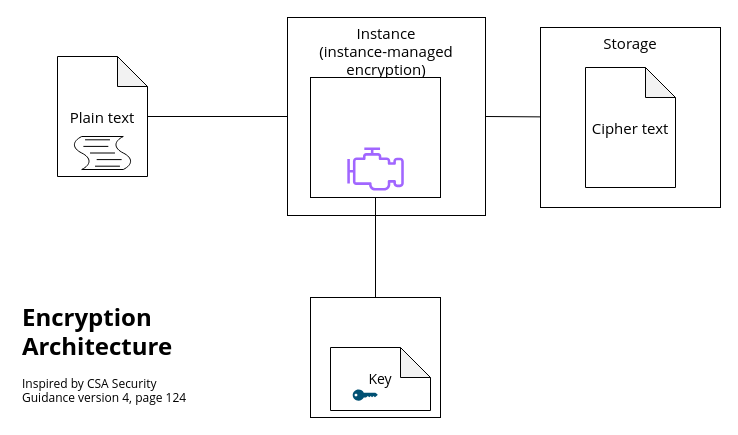
Image size: 738x435. Some labels were removed from this diagram. Here are the shapes that lost their labels. From the top down, the box of each, then its label:
(310, 76, 440, 198): Encryption engine
(310, 296, 440, 418): Key manager
